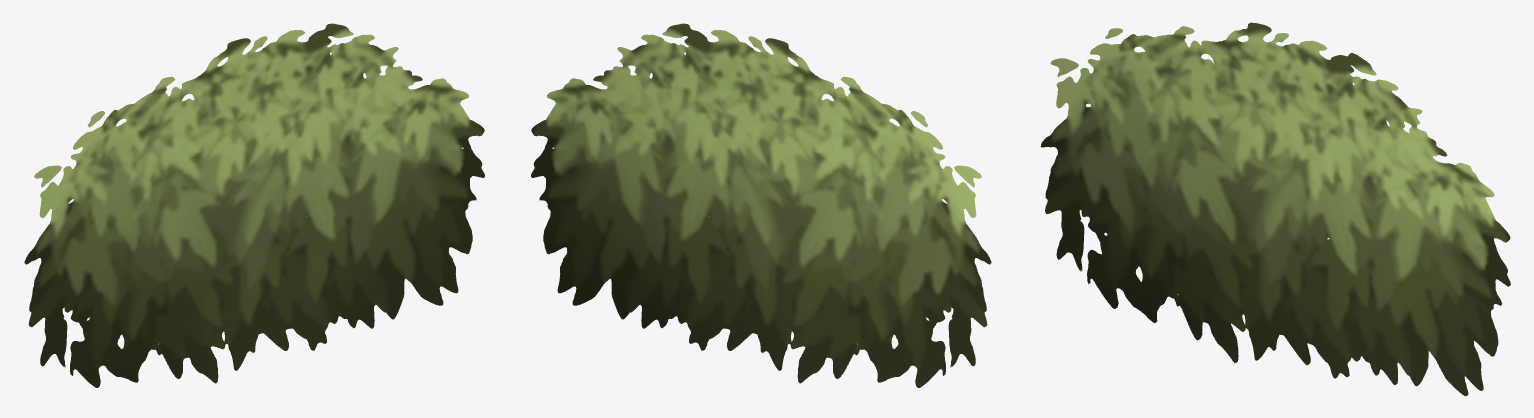
The model's file is HP3_bush031 1.fbx.
3 renders of one model, left to right at view 1: azimuth 30°, elevation 25°; view 2: azimuth 150°, elevation 25°; view 3: azimuth 330°, elevation 25°, orthographic. The views are drawn at different scales.
Visible parts, largest first — view 1: HP3_bush031; view 2: HP3_bush031; view 3: HP3_bush031.
Part boxes in pixels (x1,y1,x2,y2): HP3_bush031: [24, 23, 484, 387]; HP3_bush031: [531, 23, 991, 387]; HP3_bush031: [1040, 22, 1510, 396].
Bounding box in the file's own units: 10.05 × 7.21 × 0.04.
